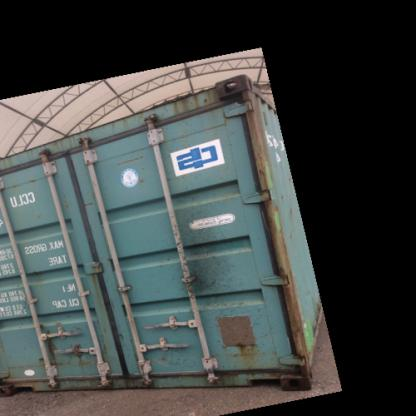Damage: (166, 206, 228, 302), (236, 93, 278, 185), (212, 296, 270, 360), (160, 78, 264, 104), (39, 342, 106, 372), (106, 374, 154, 390)
